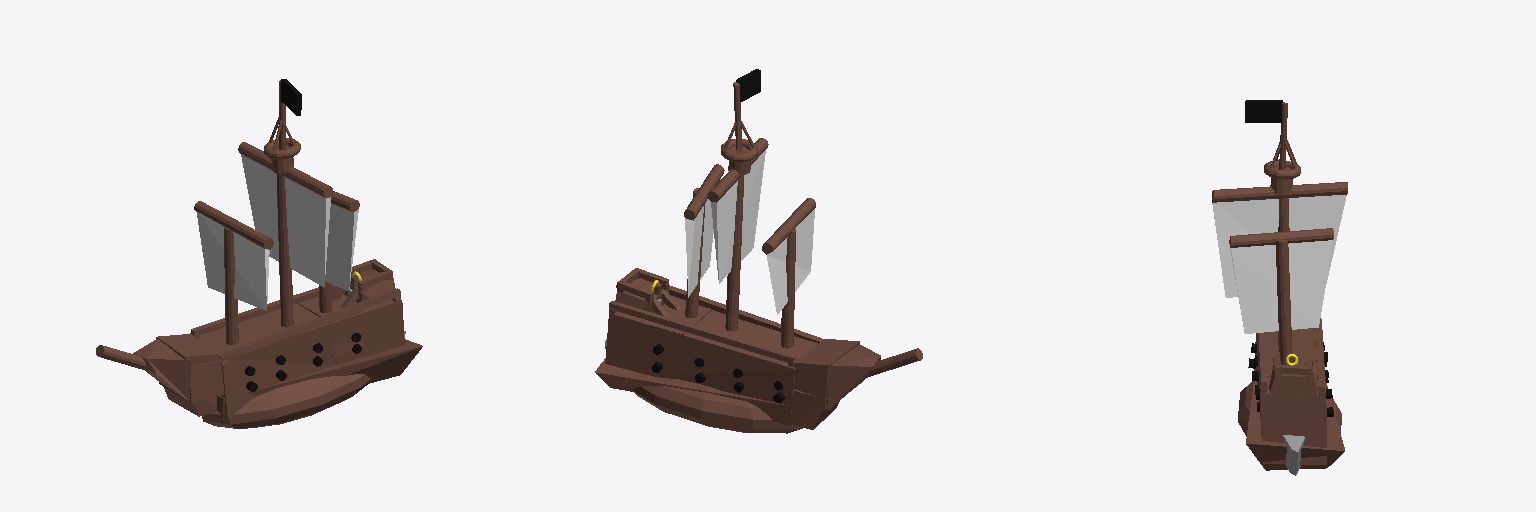
Rendered from galleon.obj.
The picture shows the model from 3 angles: view 1: azimuth 30°, elevation 25°; view 2: azimuth 150°, elevation 25°; view 3: azimuth 270°, elevation 25°; orthographic projection.
Parts seen in each view (by area): view 1: galleon:mesh[number redacted]_mesh[number redacted]_mat24.001; view 2: galleon:mesh[number redacted]_mesh[number redacted]_mat24.001; view 3: galleon:mesh[number redacted]_mesh[number redacted]_mat24.001.
Part boxes in pixels (bbox=[...]): galleon:mesh[number redacted]_mesh[number redacted]_mat24.001: bbox=[96, 79, 422, 428]; galleon:mesh[number redacted]_mesh[number redacted]_mat24.001: bbox=[595, 69, 922, 433]; galleon:mesh[number redacted]_mesh[number redacted]_mat24.001: bbox=[1212, 100, 1347, 475].
Size of the model in its own units: 8.42 by 8.71 by 3.18.